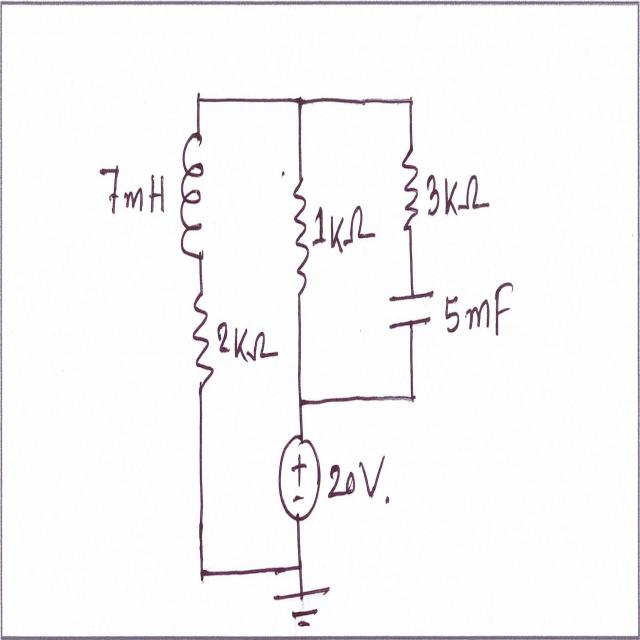capacitor: (384, 277, 438, 342)
ground: (269, 577, 334, 635)
inductor: (178, 118, 208, 270)
resistor: (288, 160, 314, 314), (192, 276, 218, 408), (399, 131, 422, 246)
voltage_source: (275, 426, 322, 526)
